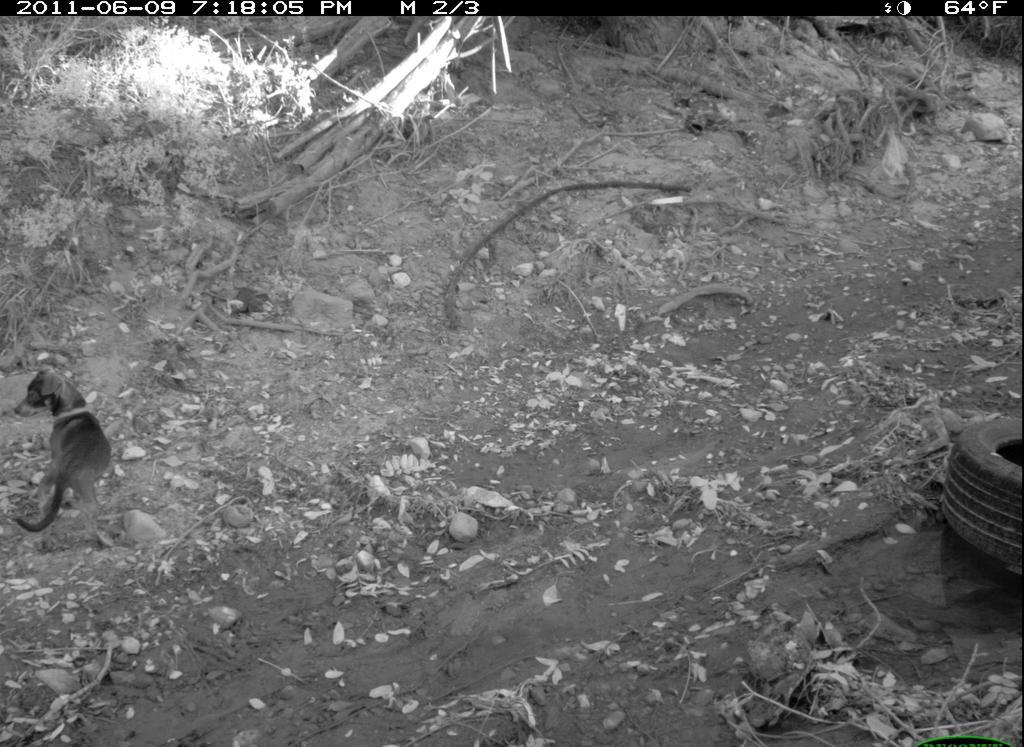dog: (11, 368, 130, 560)
